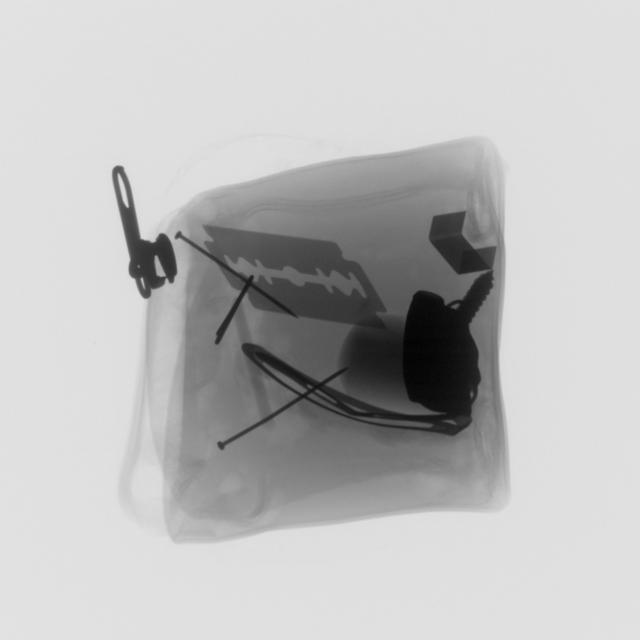razor: (204, 223, 394, 334), (427, 204, 498, 280)
snail: (208, 364, 346, 456)
